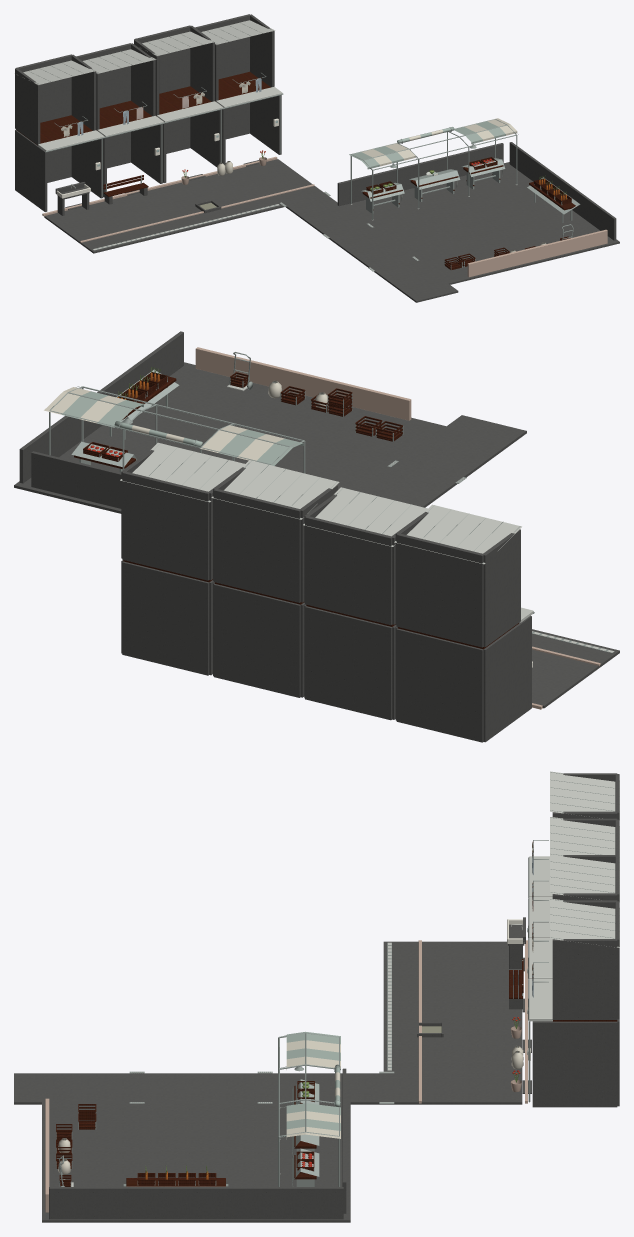
File: neighborhood-district.glb
3 renders of one model, top to bottom at view 1: azimuth 30°, elevation 25°; view 2: azimuth 150°, elevation 25°; view 3: azimuth 270°, elevation 25°, orthographic. The views are drawn at different scales.
Parts seen in each view (by area): view 1: Neighborhood market floor, Neighborhood residence floor, Neighborhood connector floor, Neighborhood market wall, Neighborhood house 1 upper wall, Neighborhood house 1 wall, Neighborhood residence fixtures, Neighborhood house 3 upper wall, Neighborhood house 4 upper wall, Neighborhood house 2 upper wall, Neighborhood house 3 wall, Neighborhood house 2 wall (+17 smaller); view 2: Neighborhood market floor, Neighborhood house 1 wall, Neighborhood house 1 upper wall, Neighborhood market wall, Neighborhood house 3 upper wall, Neighborhood house 4 wall, Neighborhood house 3 wall, Neighborhood house 2 wall, Neighborhood house 2 upper wall, Neighborhood house 4 upper wall, Neighborhood connector floor, Neighborhood market roof (+11 smaller); view 3: Neighborhood market floor, Neighborhood residence floor, Neighborhood market wall, Neighborhood connector floor, Neighborhood house 4 wall, Neighborhood house 4 upper wall, Neighborhood residence fixtures, Neighborhood market roof, Neighborhood house 3 upper roof, Neighborhood house 1 upper roof, Neighborhood house 4 upper roof, Neighborhood house 2 upper roof (+12 smaller).
Boxes of the visible parts, left/top/right/bottom form: Neighborhood market floor: left=342, top=162, right=619, bottom=285; Neighborhood residence floor: left=44, top=159, right=310, bottom=253; Neighborhood connector floor: left=243, top=164, right=458, bottom=302; Neighborhood market wall: left=337, top=142, right=616, bottom=277; Neighborhood house 1 upper wall: left=15, top=54, right=96, bottom=145; Neighborhood house 1 wall: left=15, top=129, right=103, bottom=211; Neighborhood residence fixtures: left=42, top=73, right=314, bottom=250; Neighborhood house 3 upper wall: left=134, top=25, right=214, bottom=116; Neighborhood house 4 upper wall: left=195, top=14, right=274, bottom=101; Neighborhood house 2 upper wall: left=76, top=43, right=155, bottom=130; Neighborhood house 3 wall: left=163, top=110, right=222, bottom=182; Neighborhood house 2 wall: left=103, top=124, right=162, bottom=197; Neighborhood market floor: left=14, top=362, right=455, bottom=513; Neighborhood house 1 wall: left=395, top=615, right=531, bottom=742; Neighborhood house 1 upper wall: left=395, top=512, right=520, bottom=649; Neighborhood market wall: left=19, top=331, right=411, bottom=508; Neighborhood house 3 upper wall: left=213, top=467, right=337, bottom=604; Neighborhood house 4 wall: left=121, top=560, right=213, bottom=675; Neighborhood house 3 wall: left=213, top=582, right=305, bottom=697; Neighborhood house 2 wall: left=304, top=605, right=396, bottom=720; Neighborhood house 2 upper wall: left=304, top=494, right=418, bottom=626; Neighborhood house 4 upper wall: left=121, top=450, right=236, bottom=582; Neighborhood connector floor: left=358, top=415, right=526, bottom=507; Neighborhood market roof: left=44, top=386, right=305, bottom=465; Neighborhood market floor: left=42, top=1097, right=350, bottom=1222; Neighborhood residence floor: left=383, top=941, right=522, bottom=1104; Neighborhood market wall: left=45, top=1068, right=346, bottom=1219; Neighborhood connector floor: left=14, top=1073, right=503, bottom=1104; Neighborhood house 4 wall: left=532, top=1019, right=619, bottom=1107; Neighborhood house 4 upper wall: left=552, top=900, right=619, bottom=1021; Neighborhood residence fixtures: left=387, top=840, right=548, bottom=1103; Neighborhood market roof: left=279, top=1031, right=340, bottom=1139; Neighborhood house 3 upper roof: left=550, top=853, right=619, bottom=902; Neighborhood house 1 upper roof: left=550, top=771, right=619, bottom=820; Neighborhood house 4 upper roof: left=550, top=898, right=619, bottom=947; Neighborhood house 2 upper roof: left=550, top=817, right=619, bottom=861.
Size of the model in its own units: 21.15 by 6.21 by 19.43.
19 materials, 3 textured.
